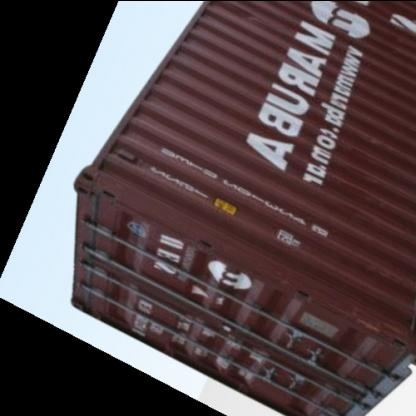Damage: (356, 116, 390, 158), (221, 4, 268, 26)
